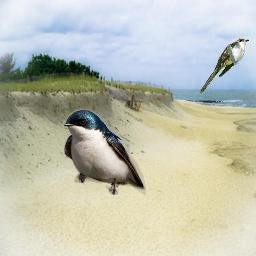Cuckoo: (199, 38, 249, 94)
Swallow: (64, 109, 146, 195)
